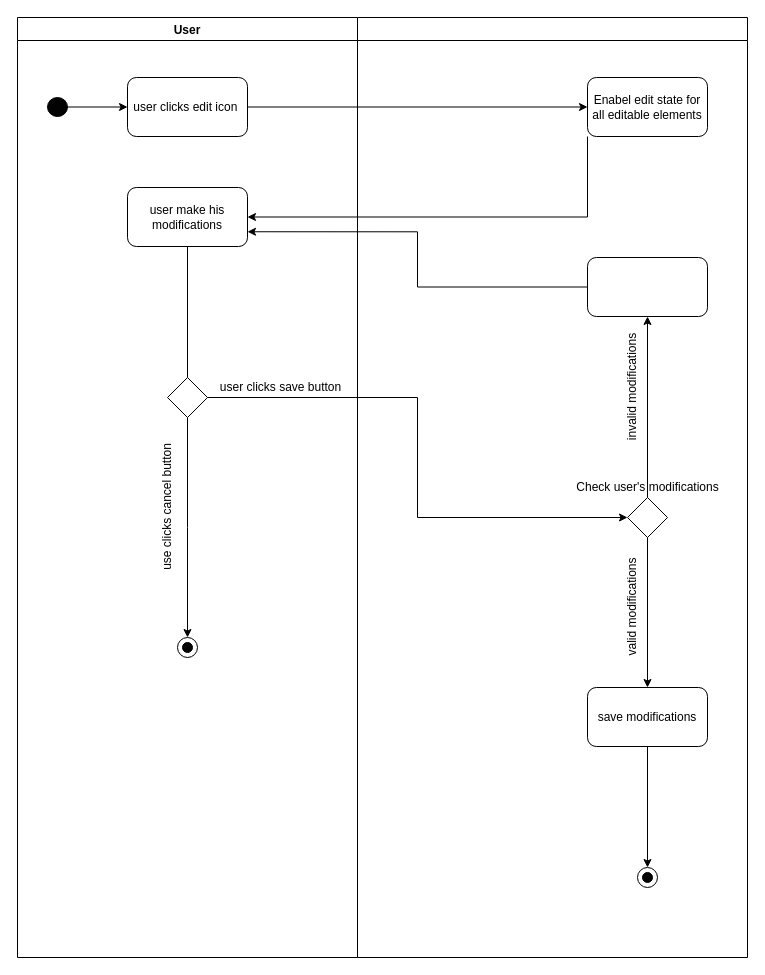
Some shapes in this 765 by 975 pixel diagram are drawn without their labels. Here are the shapes that lost their labels. From the top down, the box of each, then its label:
(586, 256, 708, 316): show error to the user showing him his mistakes
(356, 16, 748, 958): CompetetionInfoScene
